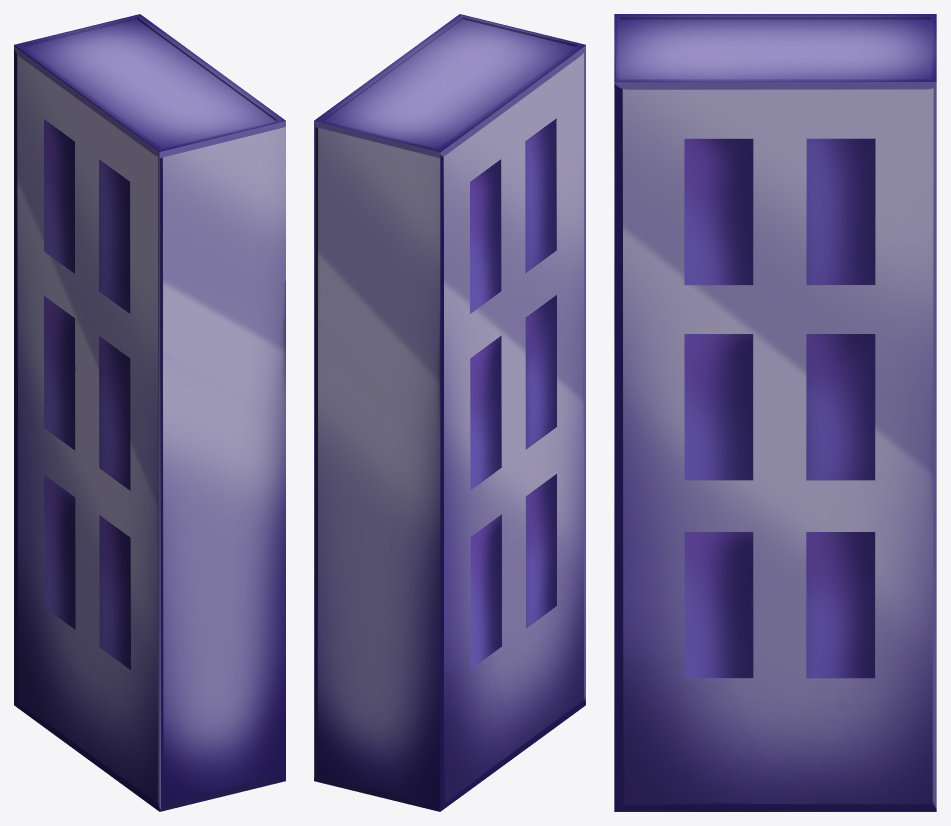
Rendered from 10x20Platform.fbx.
3 renders of one model, left to right at view 1: azimuth 30°, elevation 25°; view 2: azimuth 150°, elevation 25°; view 3: azimuth 270°, elevation 25°, orthographic. The views are drawn at different scales.
Parts seen in each view (by area): view 1: 10x20 Building; view 2: 10x20 Building; view 3: 10x20 Building.
Part boxes in pixels (x1,y1,x2,y2): 10x20 Building: (14, 14, 285, 811); 10x20 Building: (314, 14, 585, 811); 10x20 Building: (614, 14, 936, 811).
Bounding box in the file's own units: 1000 × 5000 × 2000.
1 material, 1 textured.
